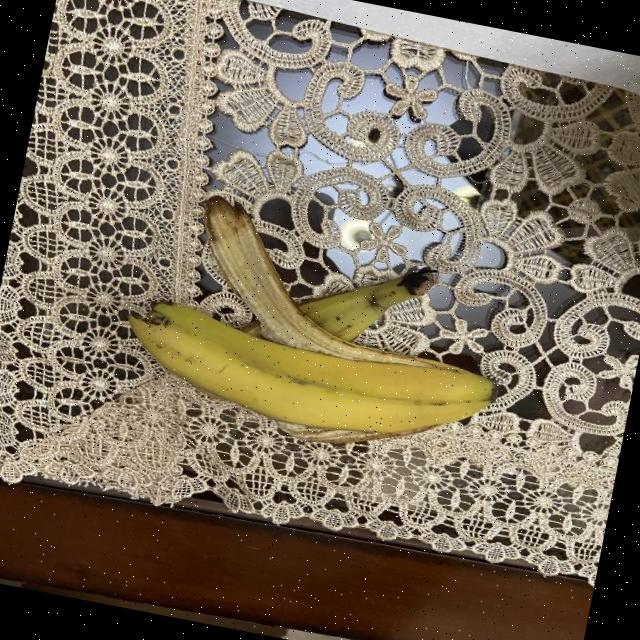banana-peel: (110, 182, 524, 474), (112, 292, 501, 468)
